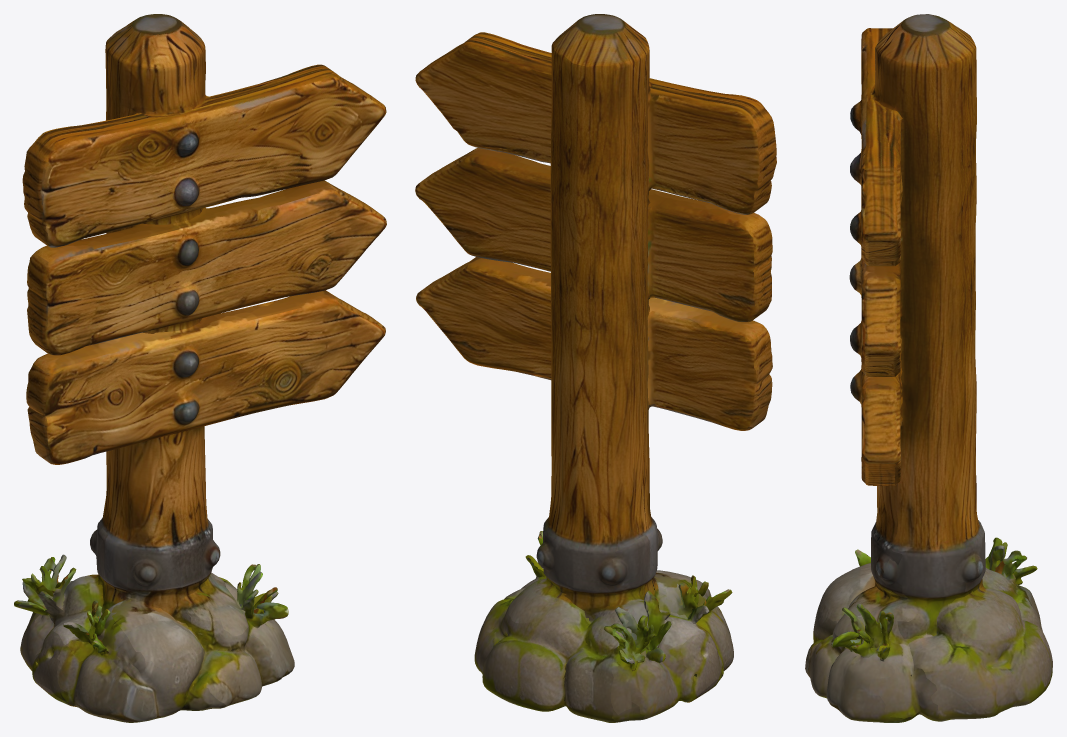
File: panneau.glb
3 renders of one model, left to right at view 1: azimuth 30°, elevation 25°; view 2: azimuth 150°, elevation 25°; view 3: azimuth 270°, elevation 25°, orthographic.
Parts seen in each view (by area): view 1: loup_texture.obj; view 2: loup_texture.obj; view 3: loup_texture.obj.
Boxes of the visible parts, left/top/right/bottom form: loup_texture.obj: left=14, top=14, right=386, bottom=722; loup_texture.obj: left=415, top=14, right=776, bottom=722; loup_texture.obj: left=805, top=14, right=1052, bottom=722.
Bounding box in the file's own units: 1.97 × 3.5 × 1.21.
1 material, 1 textured.
